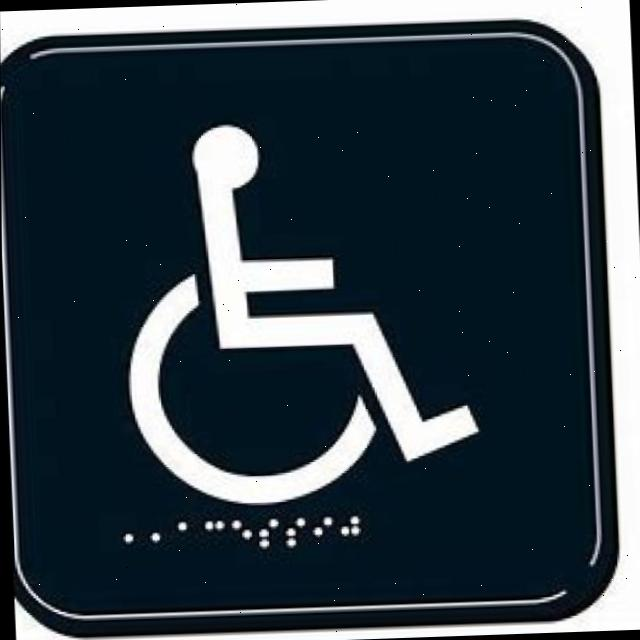symbol_of_access: (113, 116, 486, 512)
